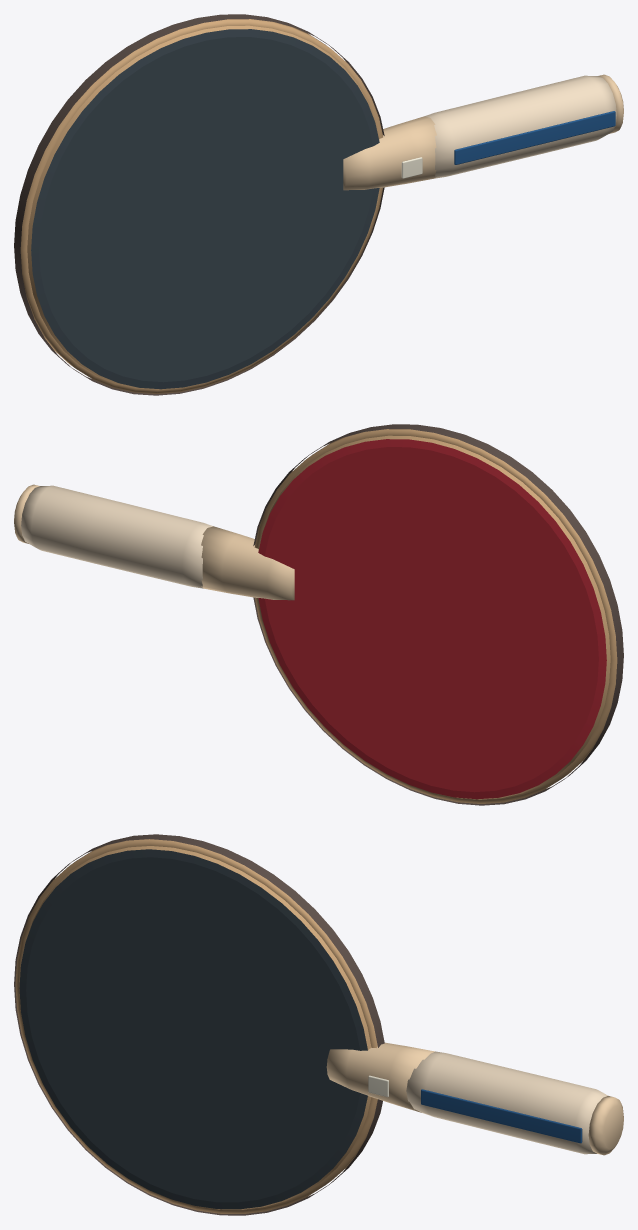
Rendered from paddle.glb.
The picture shows the model from 3 angles, top to bottom: view 1: azimuth 30°, elevation 25°; view 2: azimuth 150°, elevation 25°; view 3: azimuth 330°, elevation 25°; orthographic projection.
Visible parts, largest first — view 1: Black playing face, Flared wood handle, Black rubber bevel, Laminated blade core, Dark perimeter binding, Wood throat, Front wood shoulder, Navy front handle inlay; view 2: Red playing face, Flared wood handle, Red rubber bevel, Laminated blade core, Wood throat, Dark perimeter binding, Rear wood shoulder; view 3: Black playing face, Flared wood handle, Black rubber bevel, Laminated blade core, Dark perimeter binding, Wood throat, Navy front handle inlay, Front wood shoulder, Wood butt cap.
Boxes of the visible parts, x1,y1,x2,y2 form: Black playing face: (39,37,372,382); Flared wood handle: (425,75,616,178); Black rubber bevel: (31,29,379,389); Laminated blade core: (20,19,382,393); Dark perimeter binding: (14,14,384,395); Wood throat: (343,116,436,190); Front wood shoulder: (27,25,379,389); Navy front handle inlay: (454,111,615,164); Red playing face: (264,447,598,792); Flared wood handle: (21,485,212,588); Red rubber bevel: (258,439,606,799); Laminated blade core: (254,429,617,803); Wood throat: (201,526,294,600); Dark perimeter binding: (253,424,623,805); Rear wood shoulder: (258,435,610,799); Black playing face: (26,857,360,1202); Flared wood handle: (406,1051,607,1154); Black rubber bevel: (19,849,367,1209); Laminated blade core: (15,839,377,1213); Dark perimeter binding: (14,834,384,1215); Wood throat: (326,1042,434,1112); Navy front handle inlay: (421,1089,582,1143); Front wood shoulder: (21,846,371,1209); Wood butt cap: (588,1096,623,1155).
Bounding box in the file's own units: 2.19 × 1.28 × 0.212.
